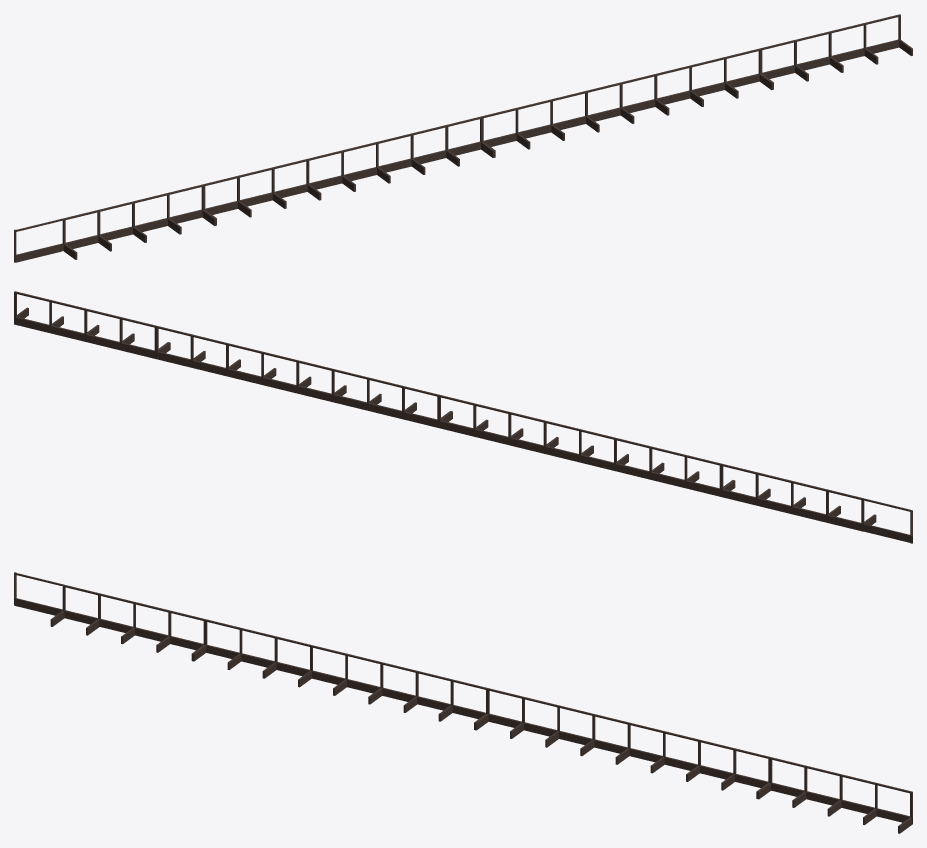
The model's file is room 1 foreground rail.fbx.
The picture shows the model from 3 angles, top to bottom: view 1: azimuth 30°, elevation 25°; view 2: azimuth 150°, elevation 25°; view 3: azimuth 330°, elevation 25°; orthographic projection.
Visible parts, largest first — view 1: foreground rail room 1; view 2: foreground rail room 1; view 3: foreground rail room 1.
Boxes of the visible parts, bbox=[...] form: foreground rail room 1: bbox=[14, 14, 912, 262]; foreground rail room 1: bbox=[14, 291, 912, 543]; foreground rail room 1: bbox=[14, 572, 912, 833].
Size of the model in its own units: 2325 by 80.72 by 61.37.
